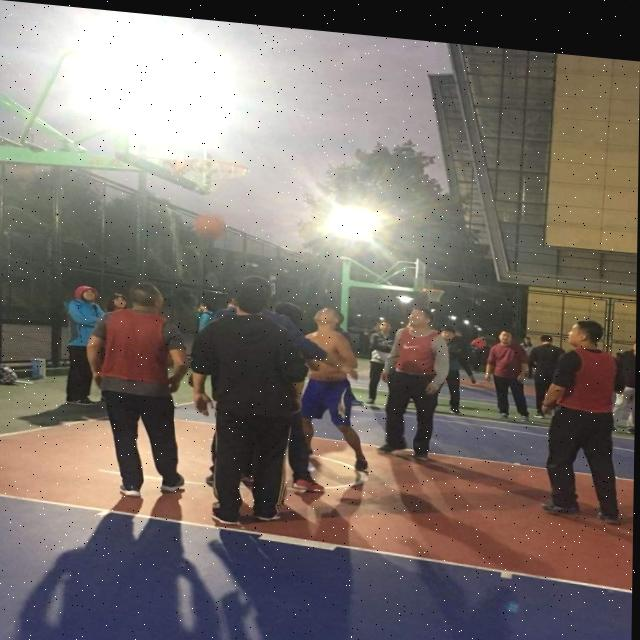basketball: (194, 213, 227, 243)
hoop: (183, 155, 252, 201)
